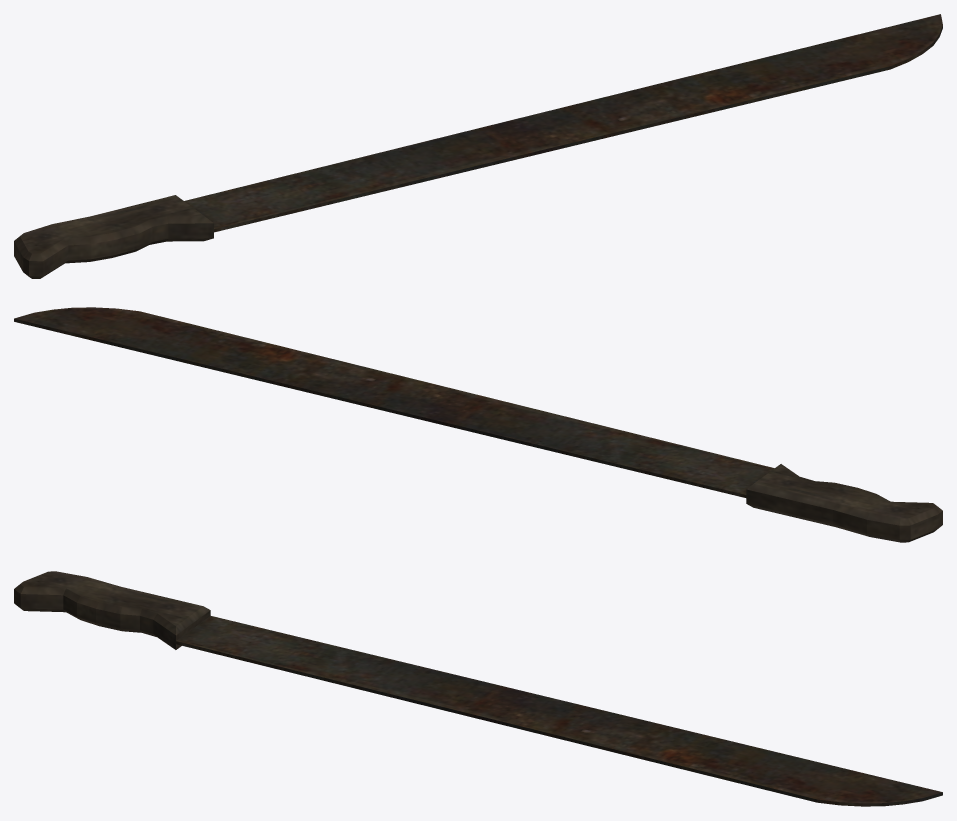
Rendered from machete_mx_1.obj.
3 renders of one model, top to bottom at view 1: azimuth 30°, elevation 25°; view 2: azimuth 150°, elevation 25°; view 3: azimuth 330°, elevation 25°, orthographic. The views are drawn at different scales.
Parts seen in each view (by area): view 1: machete_mx_1; view 2: machete_mx_1; view 3: machete_mx_1.
Part boxes in pixels (x1,y1,x2,y2): machete_mx_1: (14, 14, 942, 278); machete_mx_1: (14, 307, 942, 542); machete_mx_1: (14, 571, 942, 806).
Bounding box in the file's own units: 1.18 × 0.03 × 0.0882.
